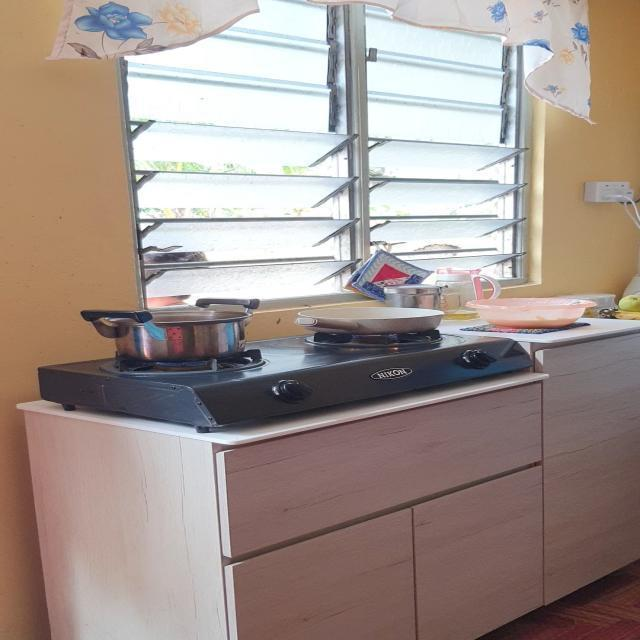Pan: (84, 294, 286, 365), (303, 301, 449, 344), (476, 294, 596, 325)
